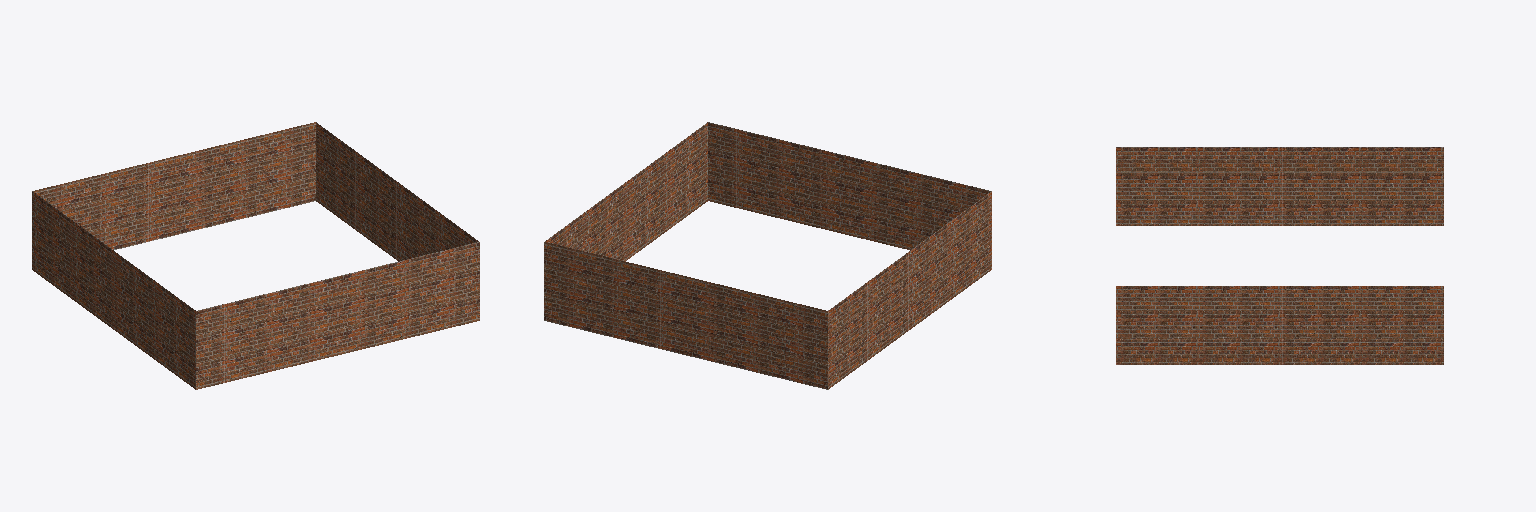
3 renders of one model, left to right at view 1: azimuth 30°, elevation 25°; view 2: azimuth 150°, elevation 25°; view 3: azimuth 270°, elevation 25°, orthographic.
Bounding box in the file's own units: 30 × 8 × 30.
1 materials, 1 textured.